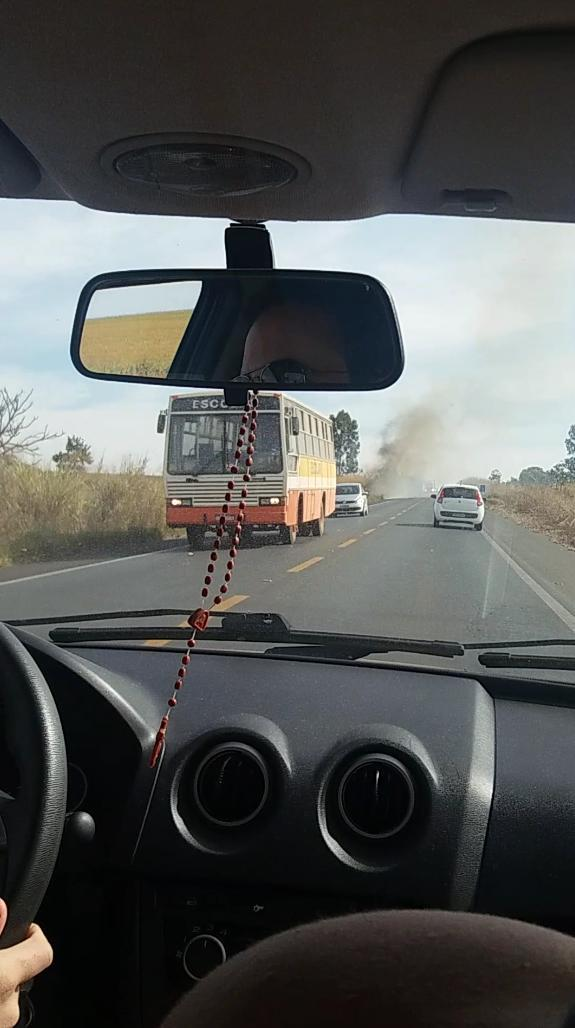smoke: (370, 428, 435, 498)
